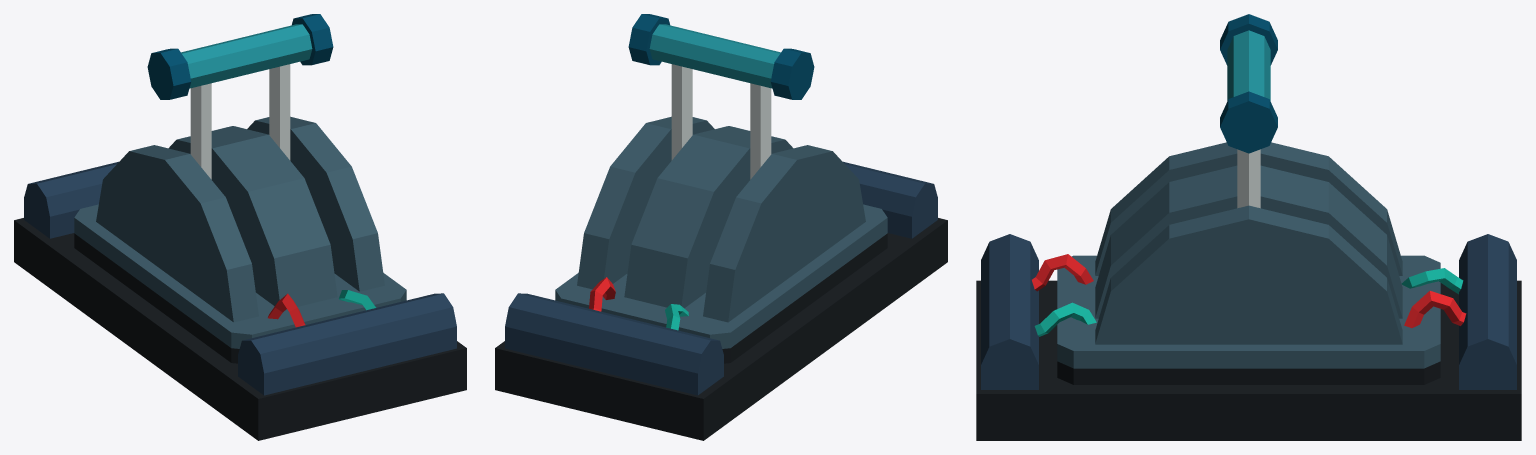
File: lever.FBX
3 renders of one model, left to right at view 1: azimuth 30°, elevation 25°; view 2: azimuth 150°, elevation 25°; view 3: azimuth 270°, elevation 25°, orthographic. The views are drawn at different scales.
Parts seen in each view (by area): view 1: lever, leverHandle; view 2: lever, leverHandle; view 3: lever, leverHandle.
Part boxes in pixels (box(x1,y1,x2,y2)): lever: box(14, 116, 466, 440); leverHandle: box(147, 14, 333, 179); lever: box(495, 116, 947, 440); leverHandle: box(628, 14, 814, 179); lever: box(976, 142, 1521, 440); leverHandle: box(1220, 14, 1277, 208).
Bounding box in the file's own units: 5.23 × 7.01 × 10.6.
